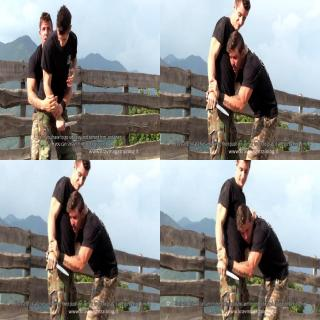knife: (46, 252, 70, 278), (207, 92, 230, 118), (216, 261, 240, 281), (54, 116, 78, 132)
